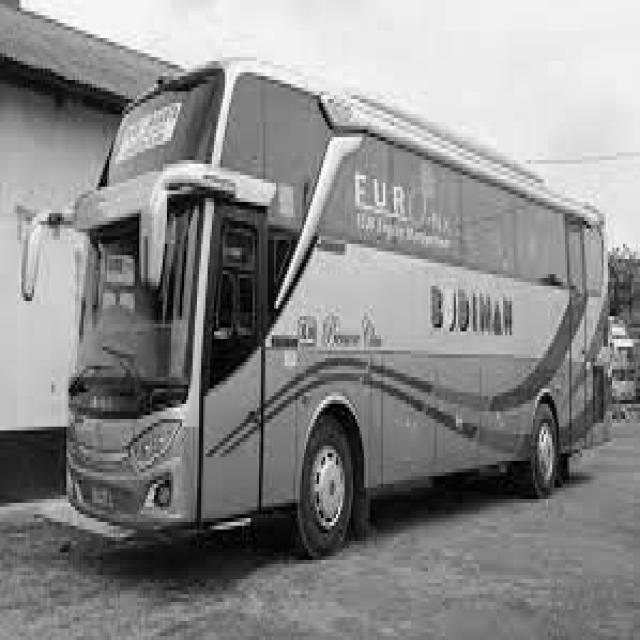Bus: (69, 65, 612, 554)
